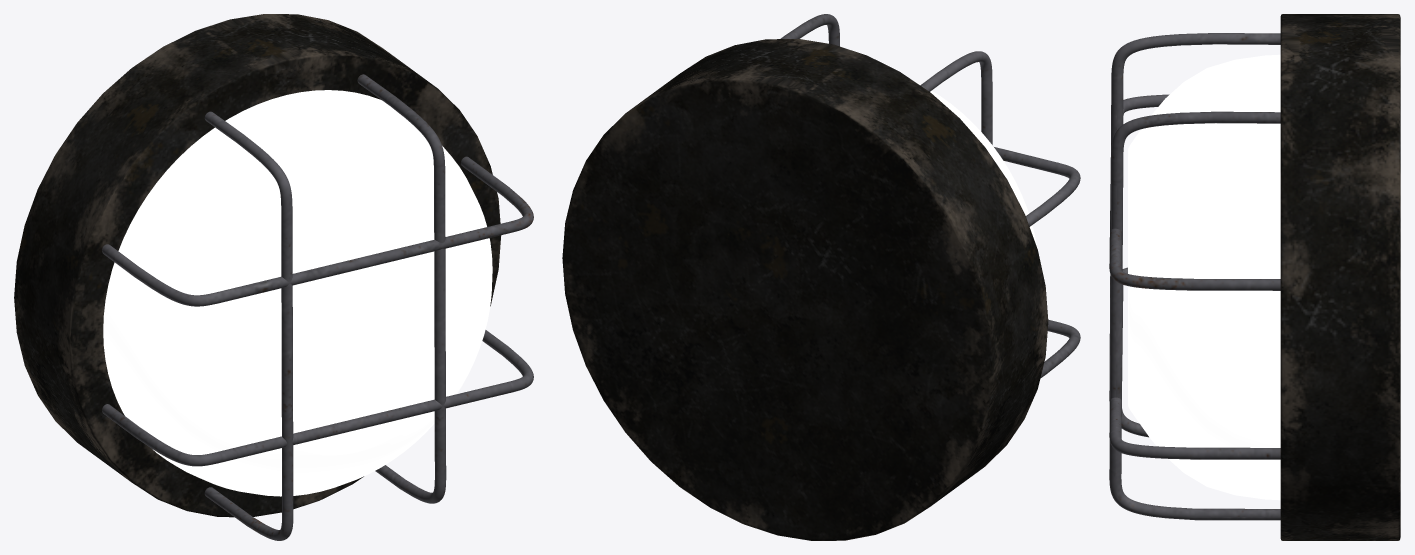
The model's file is industrial_wall_light.glb.
The picture shows the model from 3 angles, left to right: view 1: azimuth 30°, elevation 25°; view 2: azimuth 150°, elevation 25°; view 3: azimuth 270°, elevation 25°; orthographic projection. The views are drawn at different scales.
Parts seen in each view (by area): view 1: Object_3, Object_2, Object_4; view 2: Object_2, Object_4, Object_3; view 3: Object_2, Object_3, Object_4.
Part boxes in pixels (x1,y1,x2,y2): Object_3: [103, 90, 492, 496]; Object_2: [14, 14, 501, 517]; Object_4: [102, 74, 533, 540]; Object_2: [562, 39, 1048, 540]; Object_4: [780, 14, 1080, 378]; Object_3: [914, 81, 1037, 247]; Object_2: [1280, 14, 1400, 540]; Object_3: [1128, 54, 1280, 500]; Object_4: [1109, 33, 1280, 520].
Bounding box in the file's own units: 0.2192 × 0.2192 × 0.121.
Materials: 3 (3 with a texture image).
